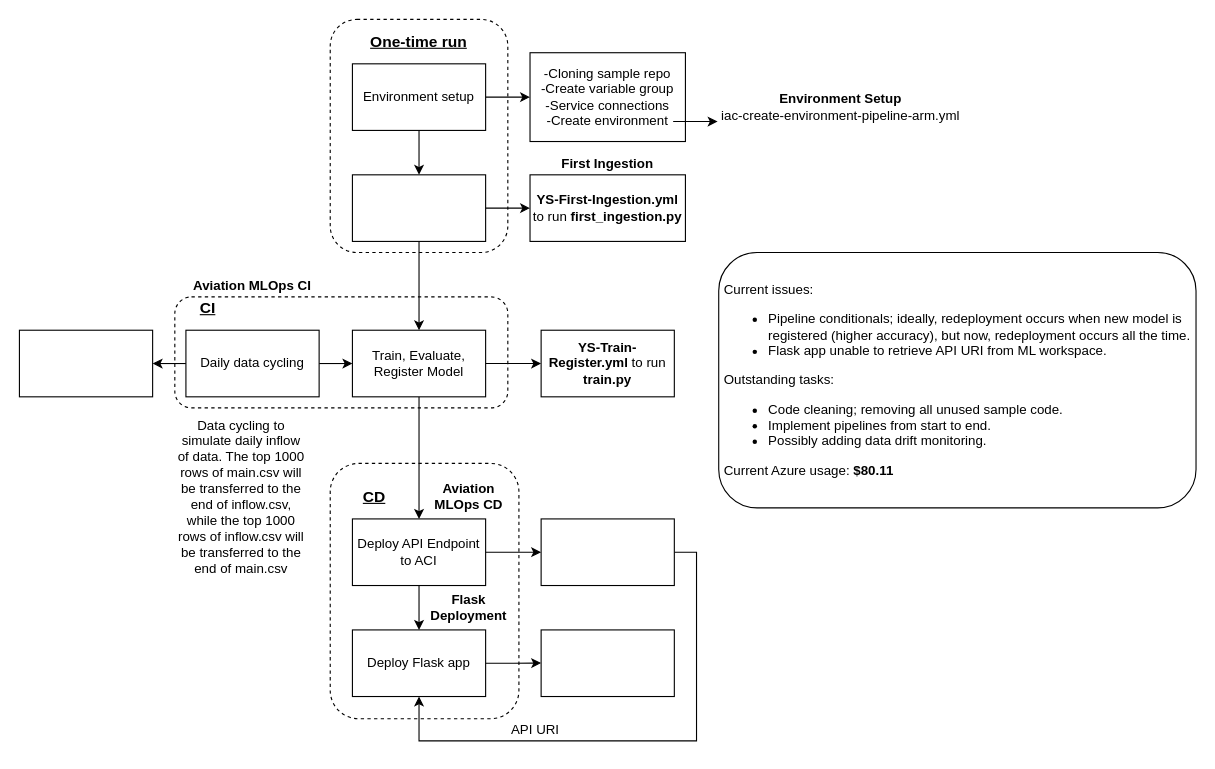
The diagram is 1215 pixels wide and 769 high, and some of its shapes have lost their labels. The shapes that lost their labels are listed below. From the top down, each one's box as (x1, y1, x2, y2) in pixels, then its label:
(351, 174, 486, 241): Data ingestion
(18, 329, 153, 397): YS-Data-Cycler.yml to run data_cycler.py
(540, 518, 674, 586): Deploy.yml to run deploy2.py
(540, 629, 674, 697): azure-pipeline.yml to deploy Flask app
